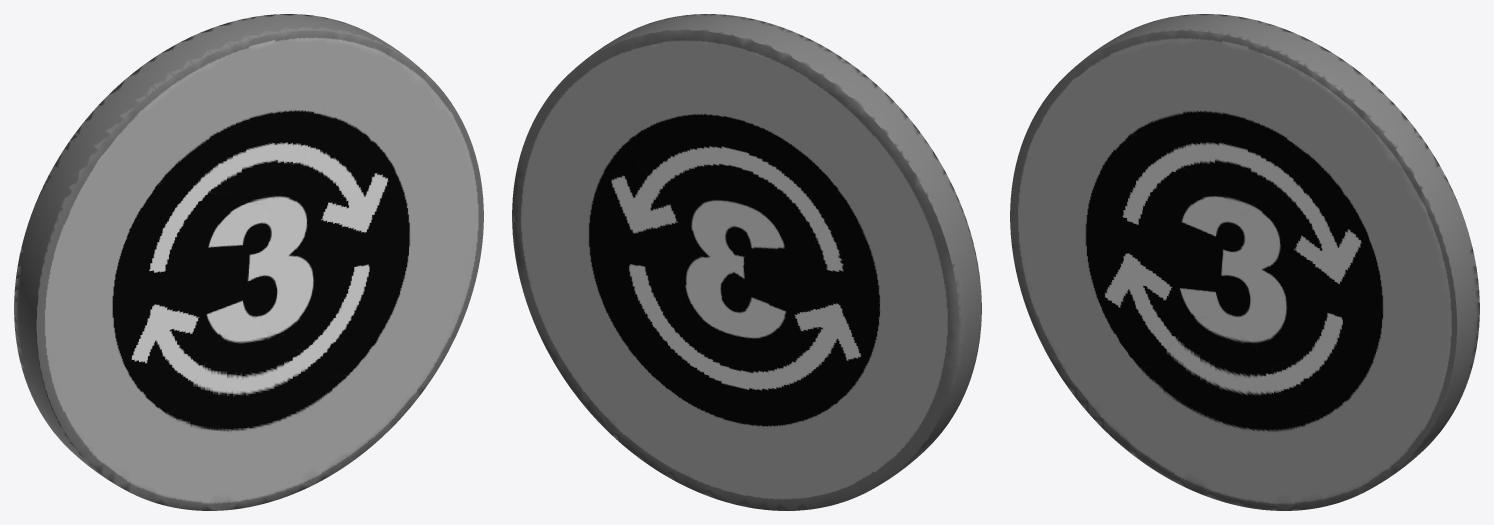
File: 3_round.glb
3 renders of one model, left to right at view 1: azimuth 30°, elevation 25°; view 2: azimuth 150°, elevation 25°; view 3: azimuth 330°, elevation 25°, orthographic.
Parts seen in each view (by area): view 1: node_id27; view 2: node_id27; view 3: node_id27.
Boxes of the visible parts, x1,y1,x2,y2 form: node_id27: (14, 14, 483, 510); node_id27: (512, 14, 981, 510); node_id27: (1010, 14, 1479, 510).
Size of the model in its own units: 0.512 by 0.512 by 0.0447.
1 material, 1 textured.
